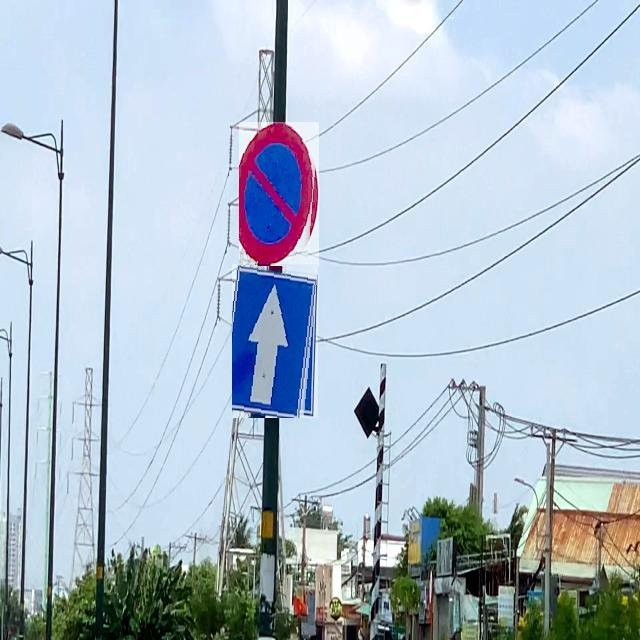P-131a: (239, 122, 319, 266)
R-407a: (233, 264, 319, 418)
